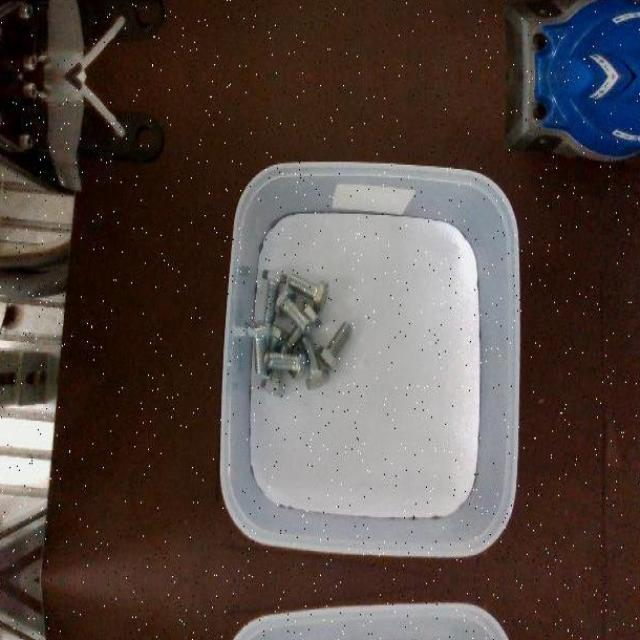screw: (317, 320, 351, 370), (275, 289, 311, 332), (288, 274, 328, 312), (264, 347, 306, 381), (262, 268, 286, 322)
